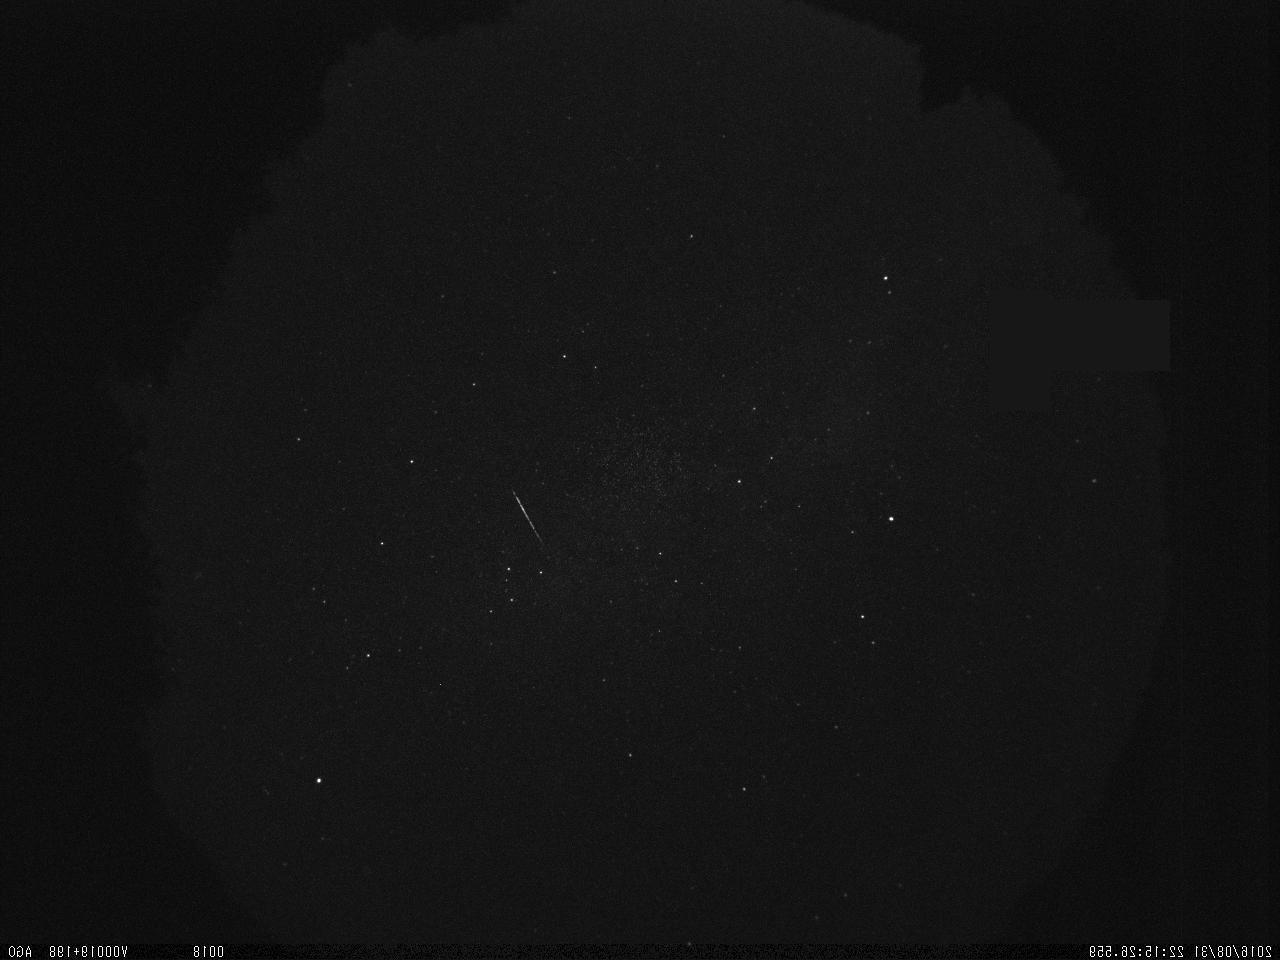meteor: (499, 481, 554, 557)
